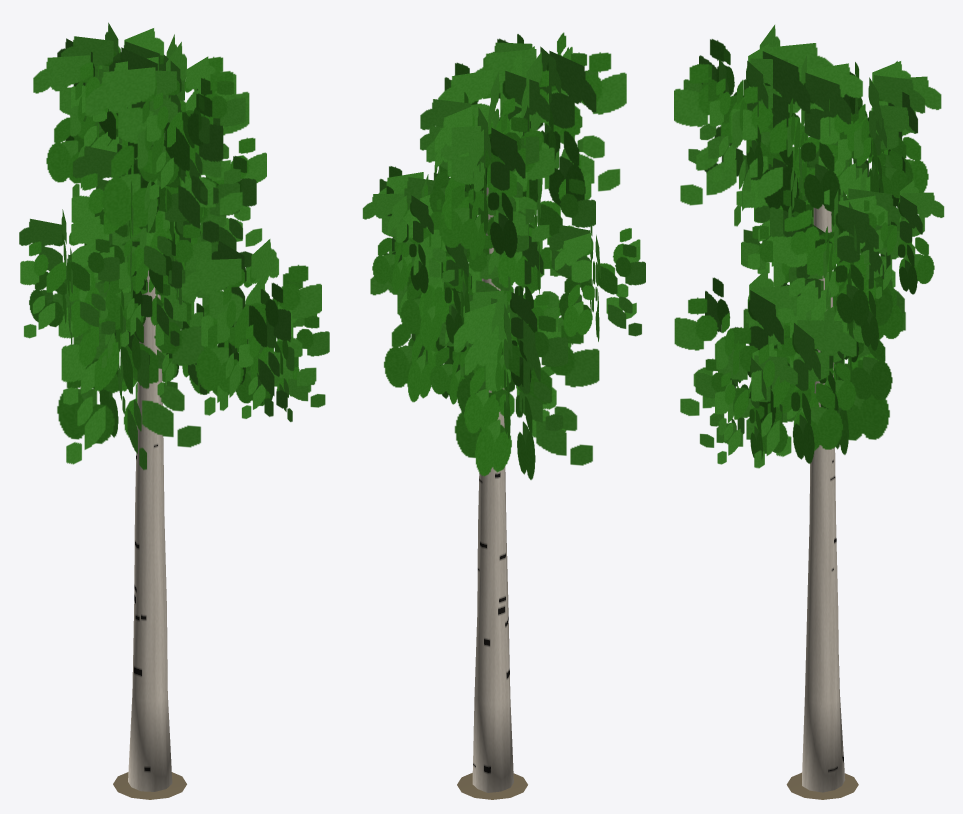
File: birch_tree.glb
3 views of the same model, side by side, from view 1: azimuth 30°, elevation 25°; view 2: azimuth 150°, elevation 25°; view 3: azimuth 270°, elevation 25° (orthographic). The views are drawn at different scales.
Visible parts, largest first — view 1: birch_tree; view 2: birch_tree; view 3: birch_tree.
Boxes of the visible parts, x1,y1,x2,y2 form: birch_tree: (19, 22, 329, 799); birch_tree: (362, 32, 645, 799); birch_tree: (674, 25, 944, 799).
Bounding box in the file's own units: 2.14 × 5.49 × 1.88.
Materials: 3 (2 with a texture image).
